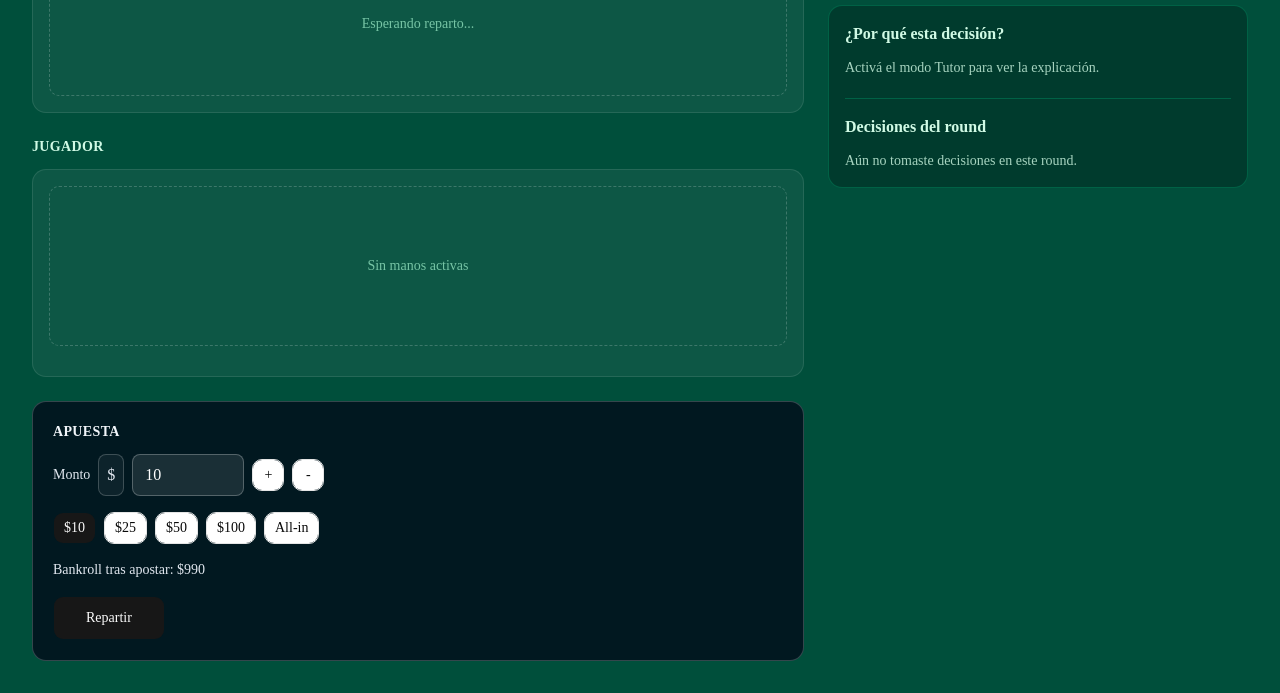
Table › shows dealer cards and revealed hole card when player busts
(page scrolled)
Click the button "Repartir" at (109, 618), box [53,596,165,640]
(page scrolled)
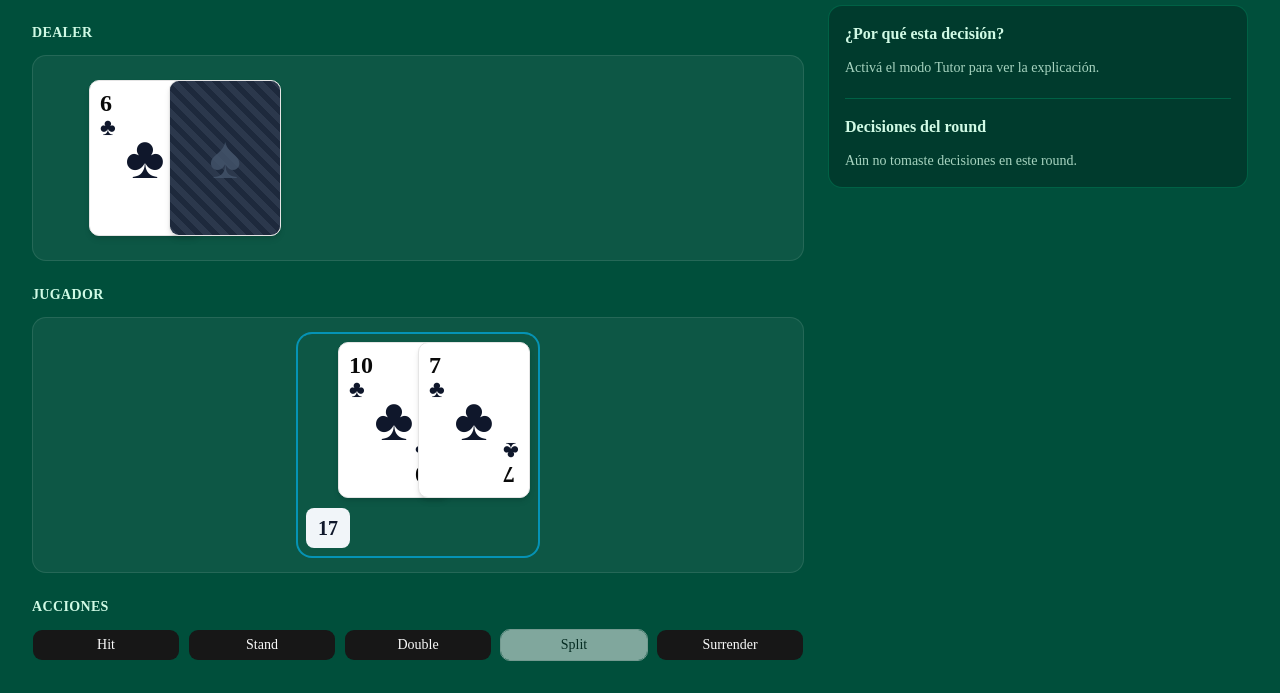
Click the button "Hit" at (106, 645), box [32,629,180,661]
(page scrolled)
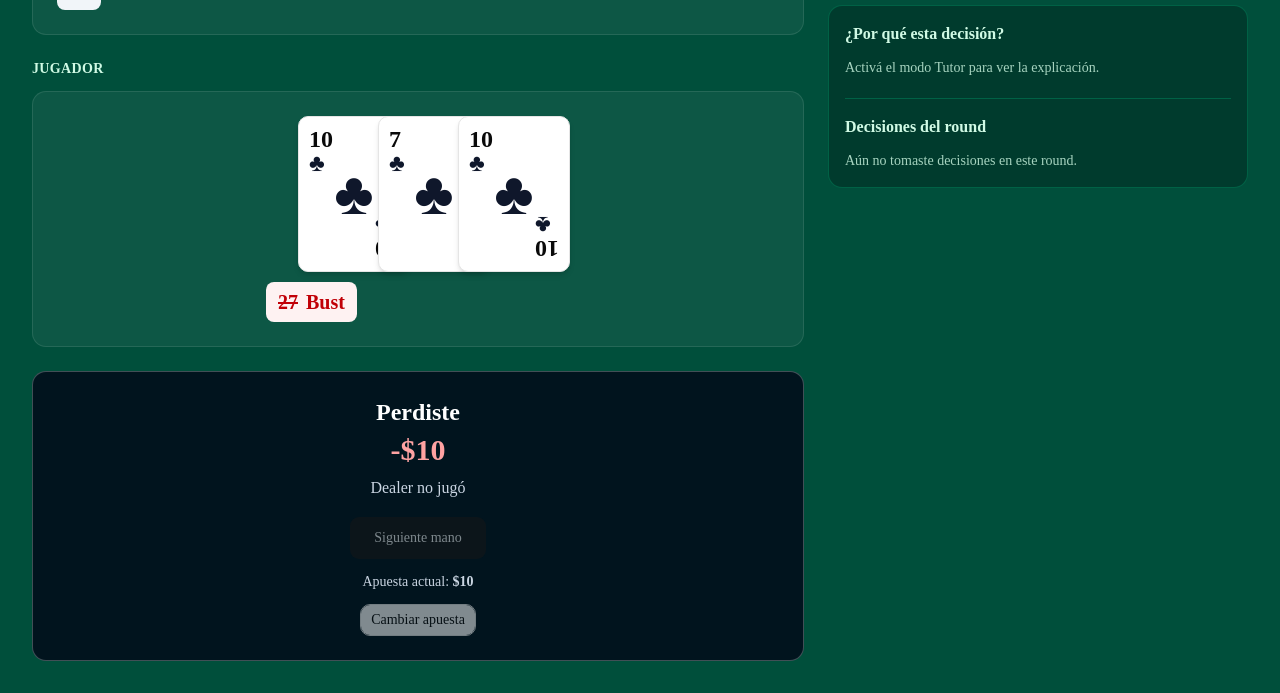
Check: the text "Esperando reparto..." is not shown
Check: the button "Siguiente mano" is shown, box [349,516,487,560]
